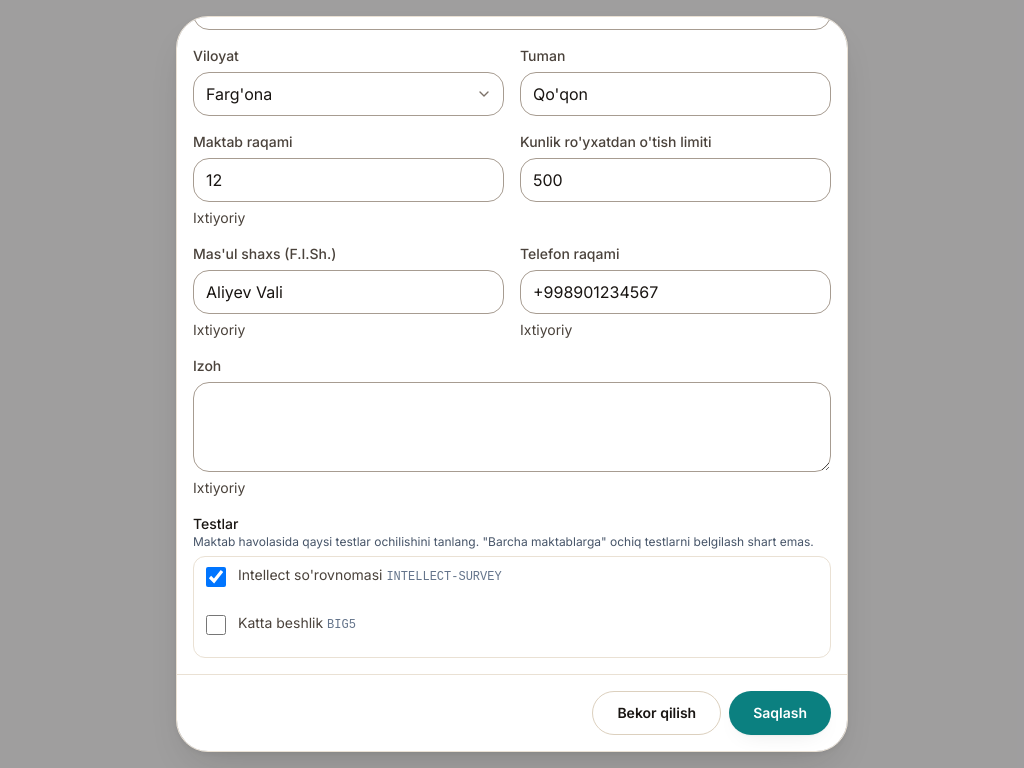
SchoolFormDialog › 409 TEST_ARCHIVED bo'lsa tushunarli xabar chiqadi va oyna yopilmaydi
(page scrolled)
Click the button "Saqlash". click: point(780, 713)
box: [729, 691, 831, 735]
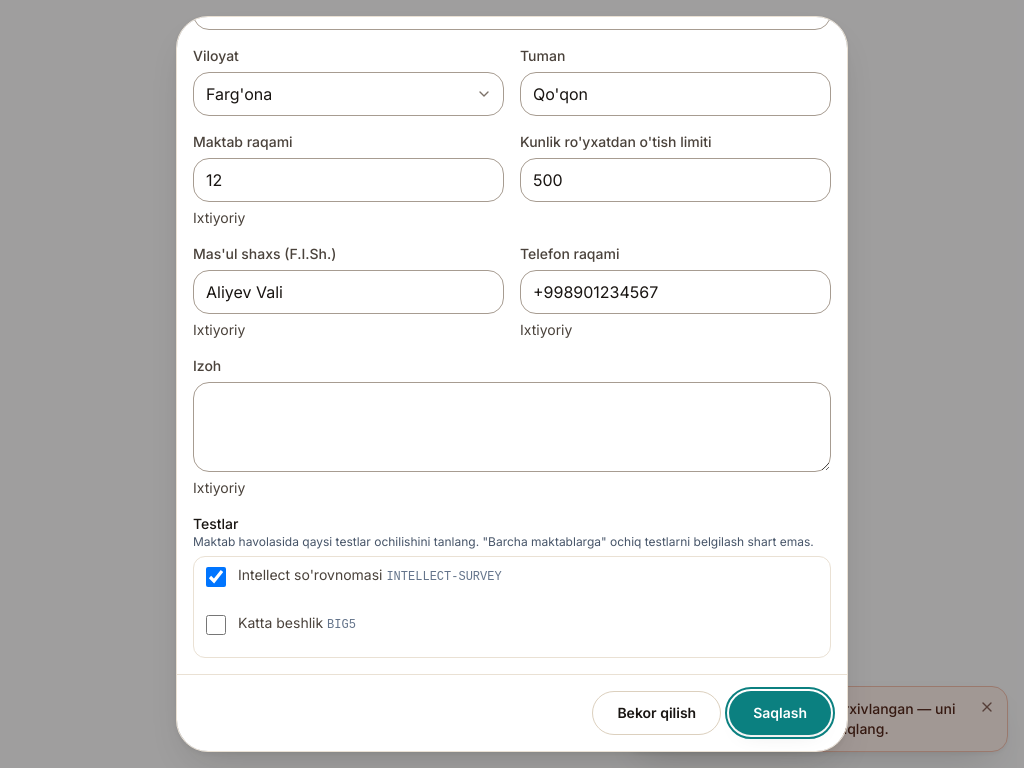
Check: the text "Tanlangan testlardan biri arxivlangan" is shown, box [667, 700, 956, 737]
